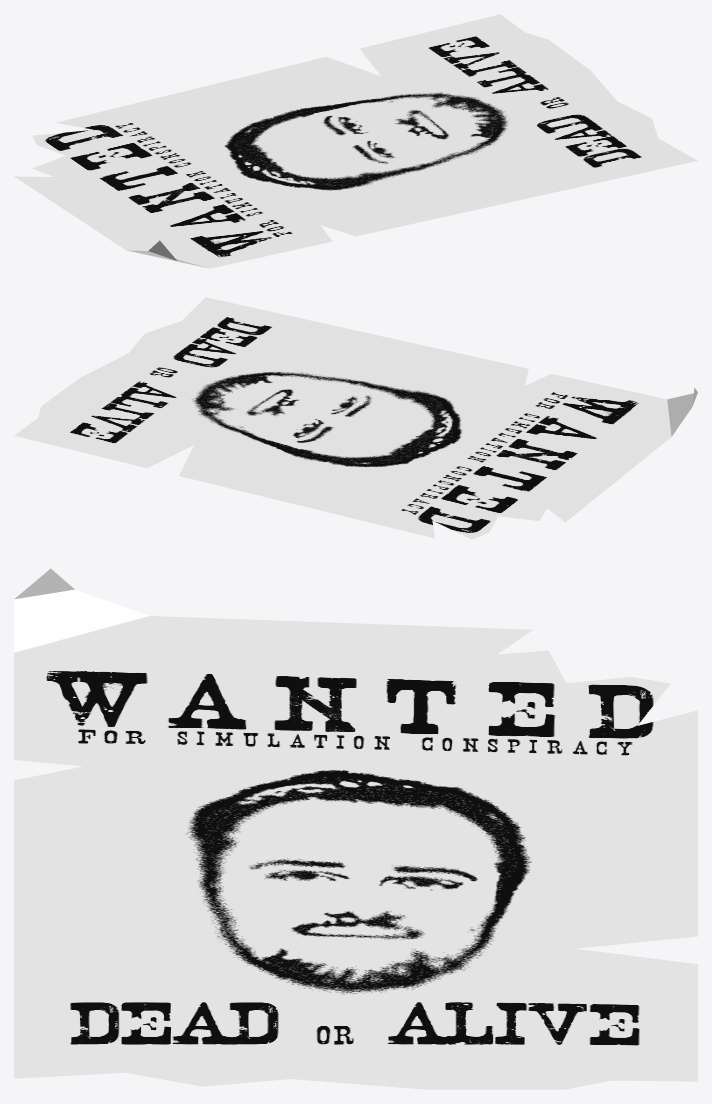
The model's file is poster.fbx.
The picture shows the model from 3 angles, top to bottom: view 1: azimuth 30°, elevation 25°; view 2: azimuth 150°, elevation 25°; view 3: azimuth 270°, elevation 25°; orthographic projection. The views are drawn at different scales.
Parts seen in each view (by area): view 1: Plane; view 2: Plane; view 3: Plane.
Part boxes in pixels (box(x1,y1,x2,y2)): Plane: box(14, 14, 697, 268); Plane: box(14, 297, 697, 539); Plane: box(14, 568, 697, 1089).
Bounding box in the file's own units: 62.85 × 4.6 × 40.
